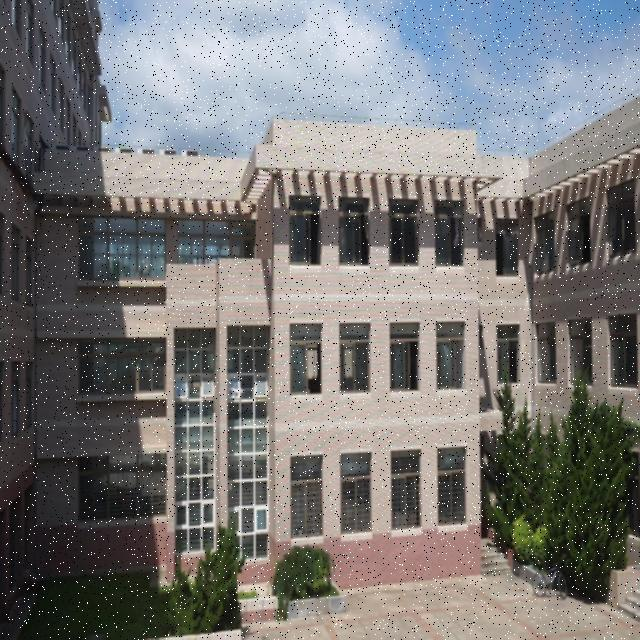UAV: (230, 387, 244, 399)
